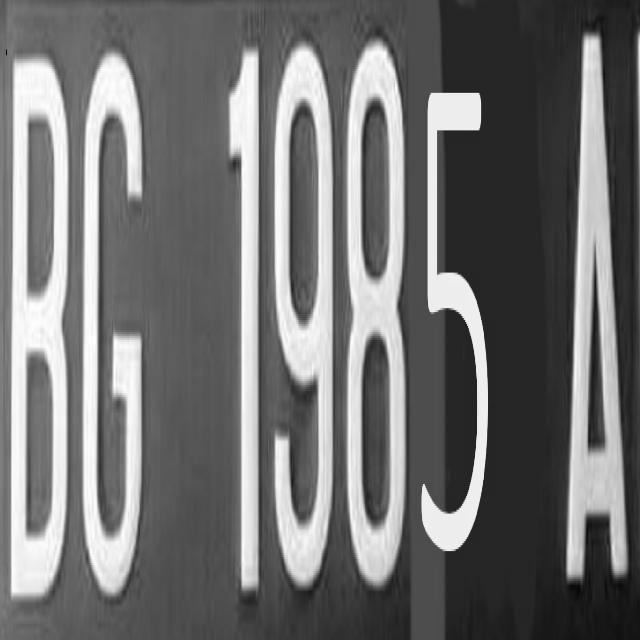1: (220, 33, 270, 618)
5: (420, 78, 492, 566)
8: (343, 34, 413, 596)
9: (273, 31, 339, 590)
A: (560, 21, 640, 604)
B: (0, 38, 76, 610)
G: (72, 41, 162, 604)
